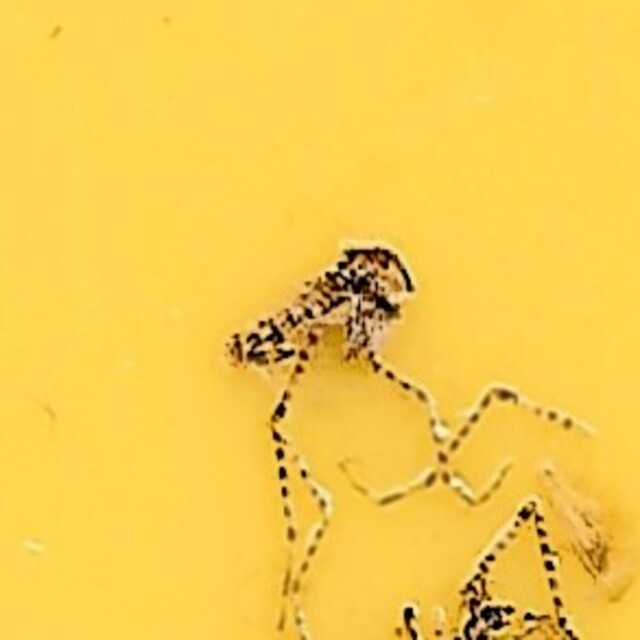Nematocera: (218, 247, 422, 393)
